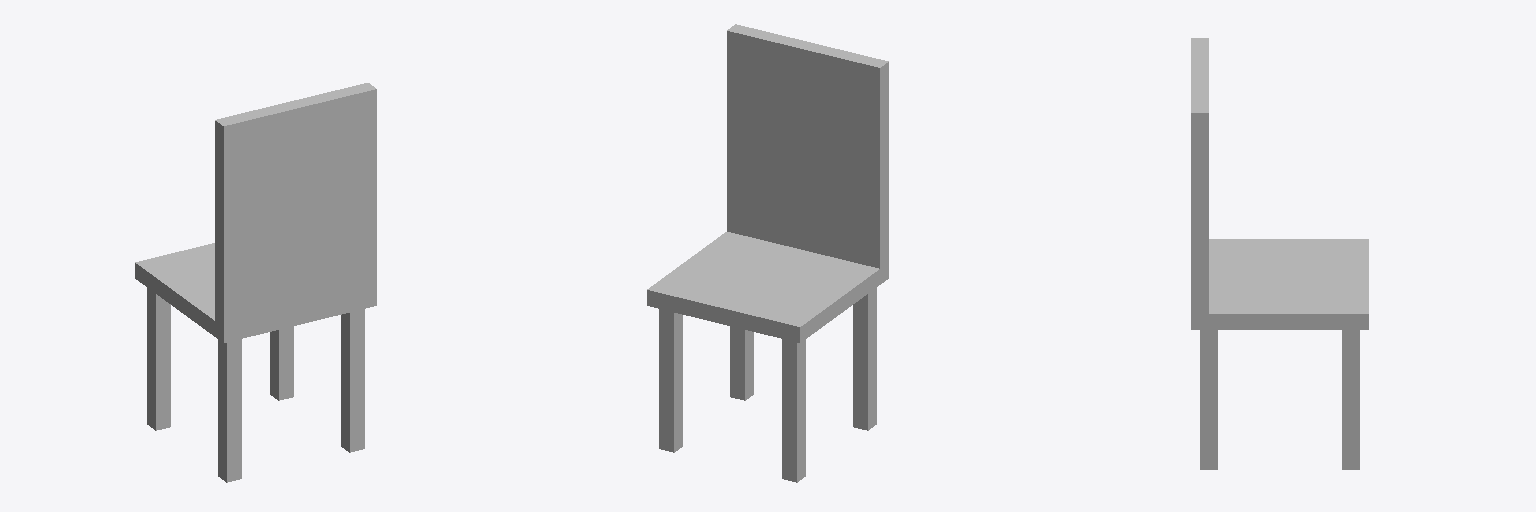
The model's file is szek.obj.
3 renders of one model, left to right at view 1: azimuth 30°, elevation 25°; view 2: azimuth 150°, elevation 25°; view 3: azimuth 270°, elevation 25°, orthographic.
Bounding box in the file's own units: 20 × 45 × 20.